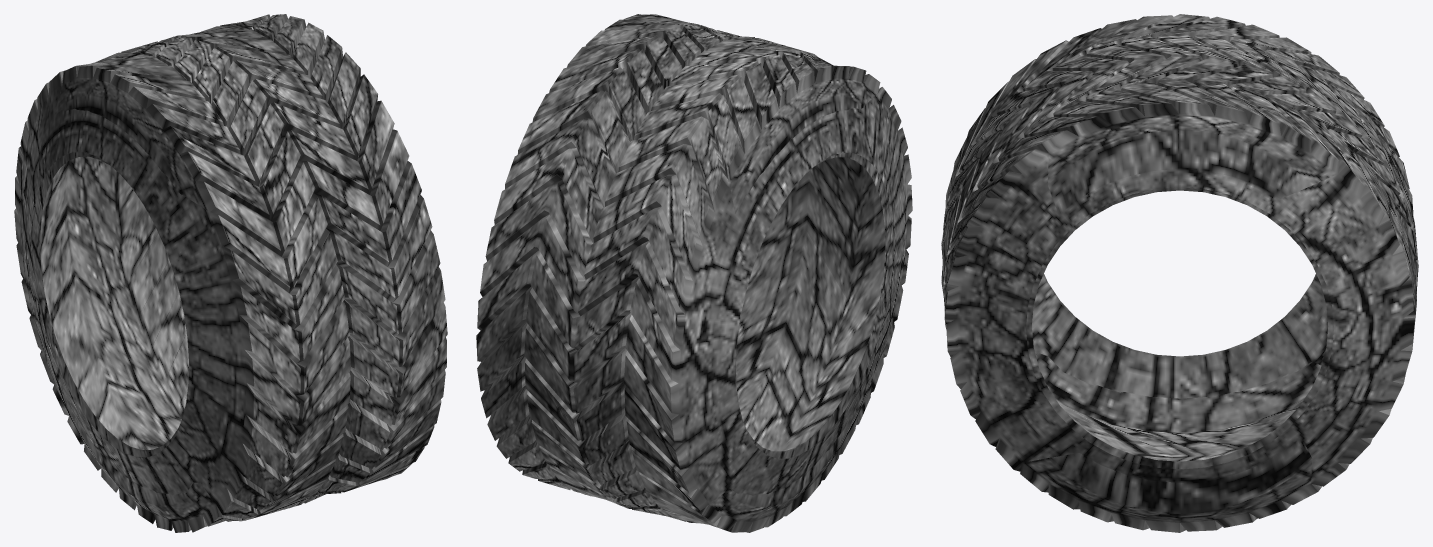
Rendered from ANGKONG_Tire1.1.glb.
The picture shows the model from 3 angles, left to right: view 1: azimuth 30°, elevation 25°; view 2: azimuth 150°, elevation 25°; view 3: azimuth 270°, elevation 25°; orthographic projection. The views are drawn at different scales.
Visible parts, largest first — view 1: ANGKONG_Tire1; view 2: ANGKONG_Tire1; view 3: ANGKONG_Tire1.
Part boxes in pixels (<box>): ANGKONG_Tire1: <box>14,14,447,532</box>; ANGKONG_Tire1: <box>476,14,912,532</box>; ANGKONG_Tire1: <box>941,14,1418,532</box>.
Size of the model in its own units: 7.04 by 12.01 by 12.01.
1 material, 1 textured.
